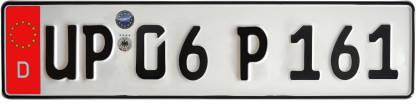0: (130, 19, 172, 86)
1: (285, 16, 324, 84), (364, 18, 402, 83)
6: (177, 20, 211, 86), (329, 20, 362, 83)
P: (231, 21, 271, 86), (82, 21, 115, 83)
U: (42, 21, 79, 84)
